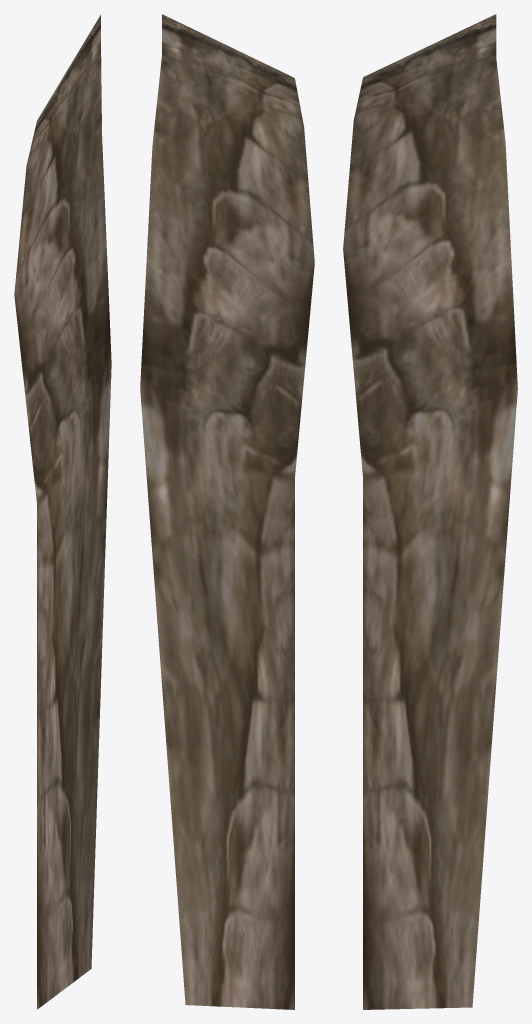
Rendered from OVERHILL_A_01_LINE71.fbx.
3 views of the same model, side by side, from view 1: azimuth 30°, elevation 25°; view 2: azimuth 150°, elevation 25°; view 3: azimuth 330°, elevation 25° (orthographic). The views are drawn at different scales.
Parts seen in each view (by area): view 1: OVERHILL_A_01_LINE71; view 2: OVERHILL_A_01_LINE71; view 3: OVERHILL_A_01_LINE71.
Boxes of the visible parts, x1,y1,x2,y2 form: OVERHILL_A_01_LINE71: [14, 15, 111, 1009]; OVERHILL_A_01_LINE71: [140, 14, 314, 1009]; OVERHILL_A_01_LINE71: [343, 14, 517, 1009].
Bounding box in the file's own units: 24762 × 170277 × 11837.
Materials: 2 (2 with a texture image).
